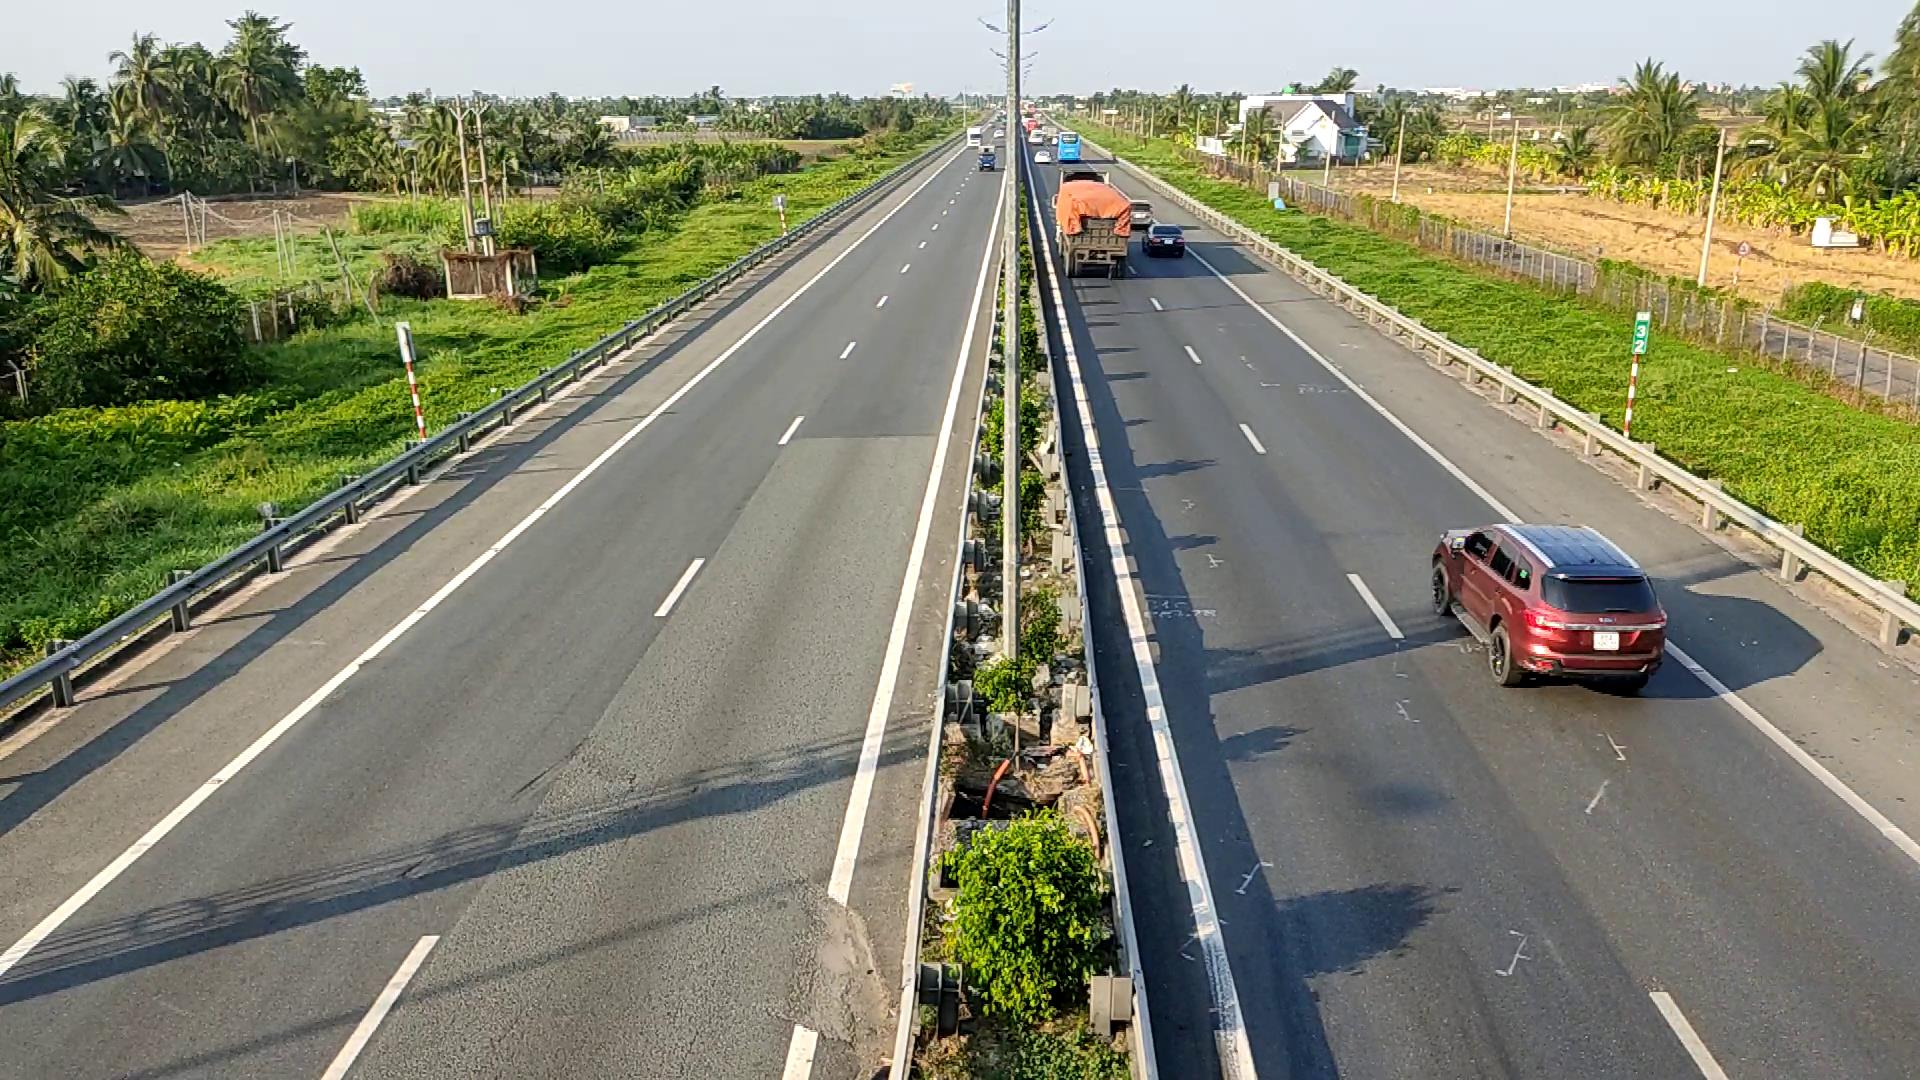car: (1429, 520, 1668, 694), (1143, 222, 1185, 256)
truck: (1055, 173, 1133, 278)
